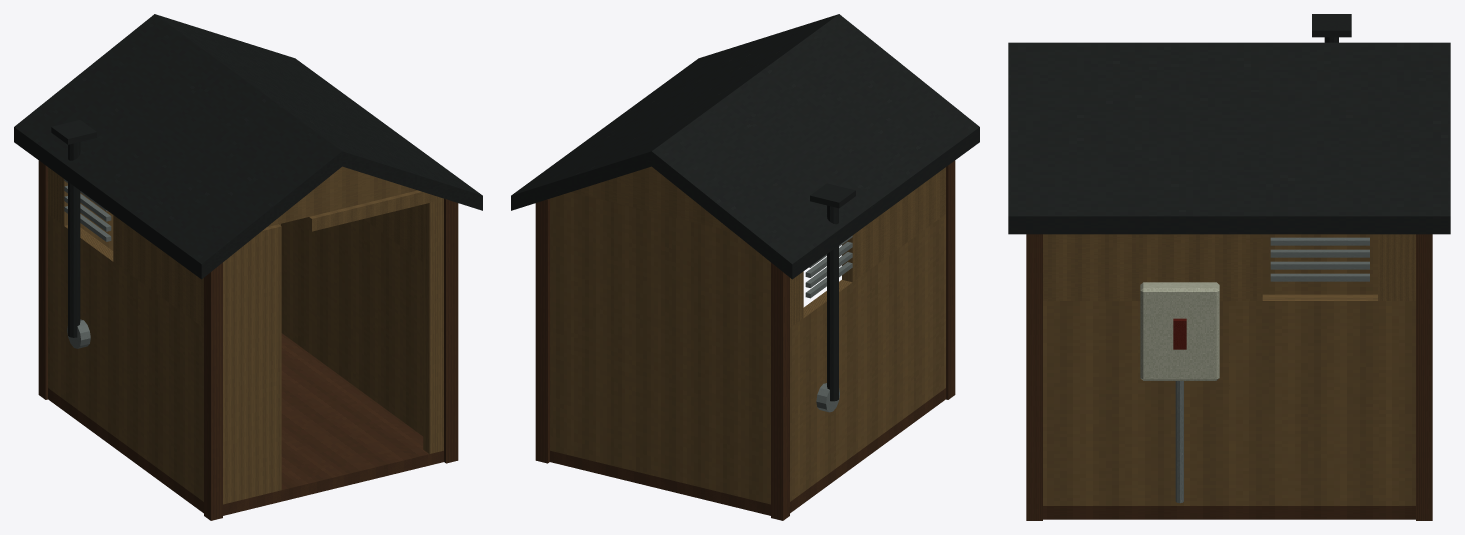
File: level_camp_dock_shed.glb
The picture shows the model from 3 angles, left to right: view 1: azimuth 30°, elevation 25°; view 2: azimuth 150°, elevation 25°; view 3: azimuth 270°, elevation 25°; orthographic projection. The views are drawn at different scales.
Parts seen in each view (by area): view 1: level_camp_dock_shed; view 2: level_camp_dock_shed; view 3: level_camp_dock_shed.
Boxes of the visible parts, x1,y1,x2,y2 form: level_camp_dock_shed: (14, 14, 482, 520); level_camp_dock_shed: (511, 14, 979, 520); level_camp_dock_shed: (1008, 14, 1450, 520).
Size of the model in its own units: 2.36 by 2.72 by 2.68.
7 materials, 7 textured.
